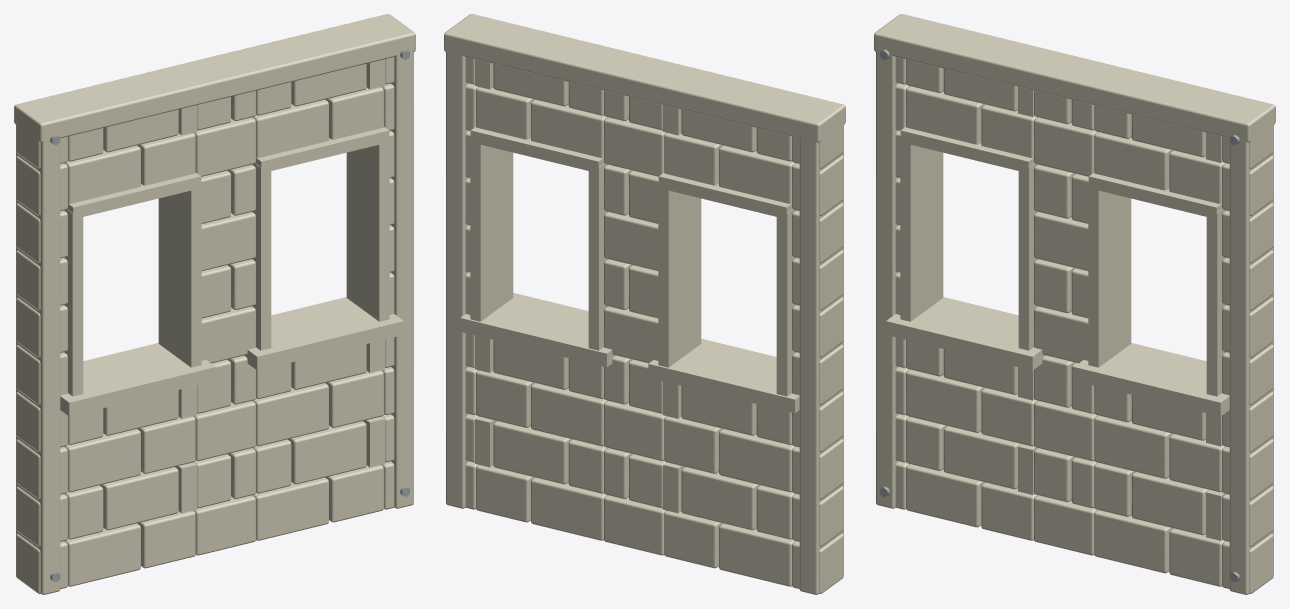
Rendered from rural-scavenging-settlements-stone-cottage-double-wind-1139c29a__26468.glb.
3 views of the same model, side by side, from view 1: azimuth 30°, elevation 25°; view 2: azimuth 150°, elevation 25°; view 3: azimuth 330°, elevation 25° (orthographic).
Visible parts, largest first — view 1: stone-cottage-double-window-wall; view 2: stone-cottage-double-window-wall; view 3: stone-cottage-double-window-wall.
Boxes of the visible parts, x1,y1,x2,y2 form: stone-cottage-double-window-wall: (14,14,415,594); stone-cottage-double-window-wall: (444,14,845,594); stone-cottage-double-window-wall: (874,14,1275,594).
Size of the model in its own units: 2 by 2.4 by 0.3601.
